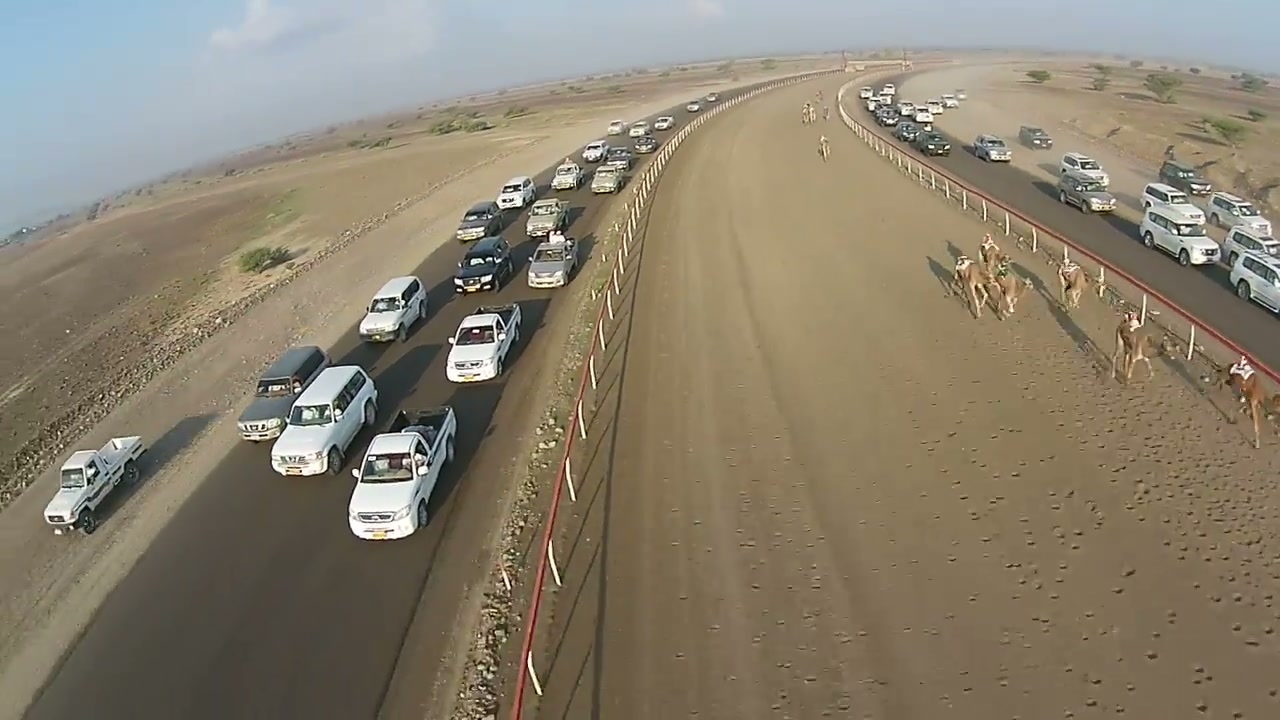animal_foot_print: (971, 293, 1270, 719)
